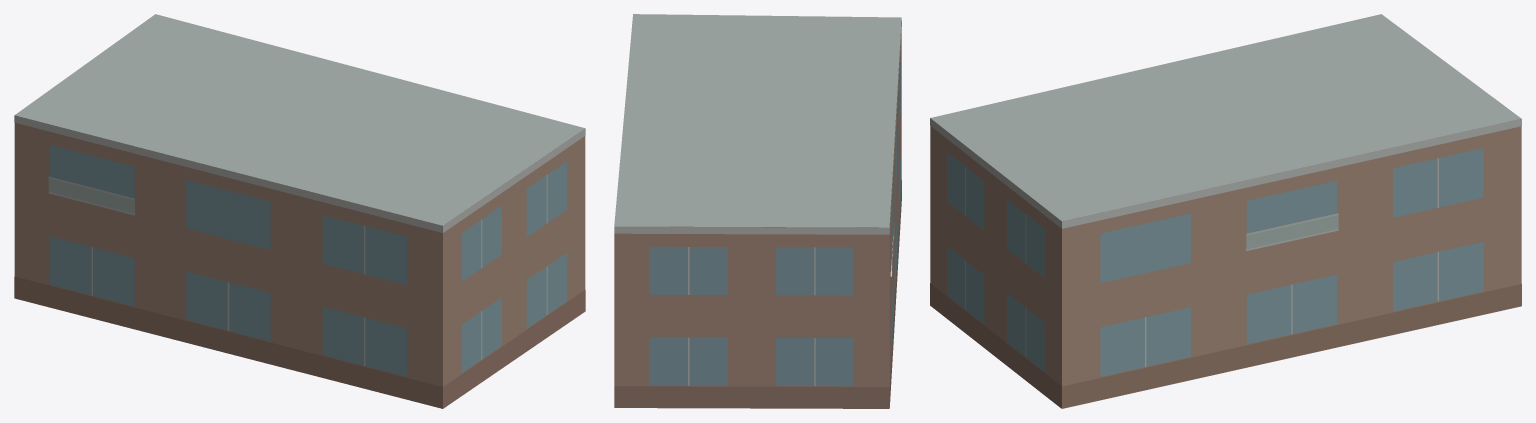
Rendered from survey-upis-32749577.glb.
3 views of the same model, side by side, from view 1: azimuth 30°, elevation 25°; view 2: azimuth 150°, elevation 25°; view 3: azimuth 270°, elevation 25° (orthographic). The views are drawn at different scales.
Parts seen in each view (by area): view 1: survey-upis-32749577.tmp; view 2: survey-upis-32749577.tmp; view 3: survey-upis-32749577.tmp.
Boxes of the visible parts, x1,y1,x2,y2 form: survey-upis-32749577.tmp: [14, 14, 585, 408]; survey-upis-32749577.tmp: [614, 14, 901, 408]; survey-upis-32749577.tmp: [930, 14, 1521, 408].
Size of the model in its own units: 14.48 by 6.1 by 17.45.
